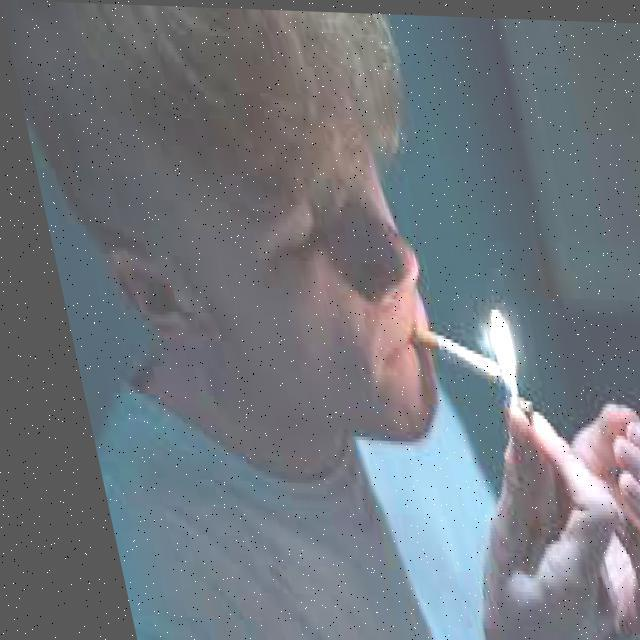Fire: (458, 295, 507, 394)
